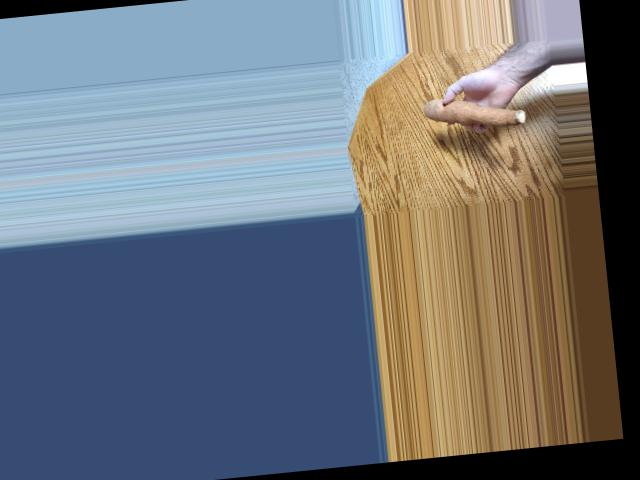sweet_potato: (417, 94, 523, 135)
